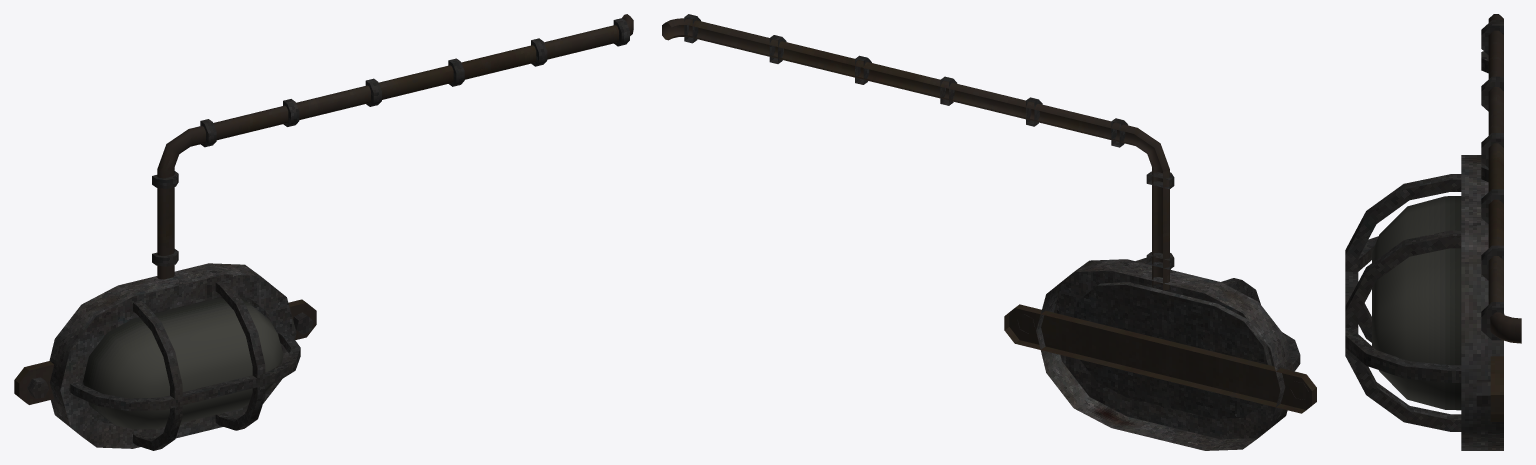
Rendered from lamp_1_off.glb.
3 renders of one model, left to right at view 1: azimuth 30°, elevation 25°; view 2: azimuth 150°, elevation 25°; view 3: azimuth 270°, elevation 25°, orthographic. The views are drawn at different scales.
Parts seen in each view (by area): view 1: lamp_1_off; view 2: lamp_1_off; view 3: lamp_1_off.
Part boxes in pixels (<box>): lamp_1_off: <box>14,14,633,450</box>; lamp_1_off: <box>662,14,1316,450</box>; lamp_1_off: <box>1345,14,1521,450</box>.
Bounding box in the file's own units: 0.7532 × 0.343 × 0.1323.
Materials: 4 (4 with a texture image).
